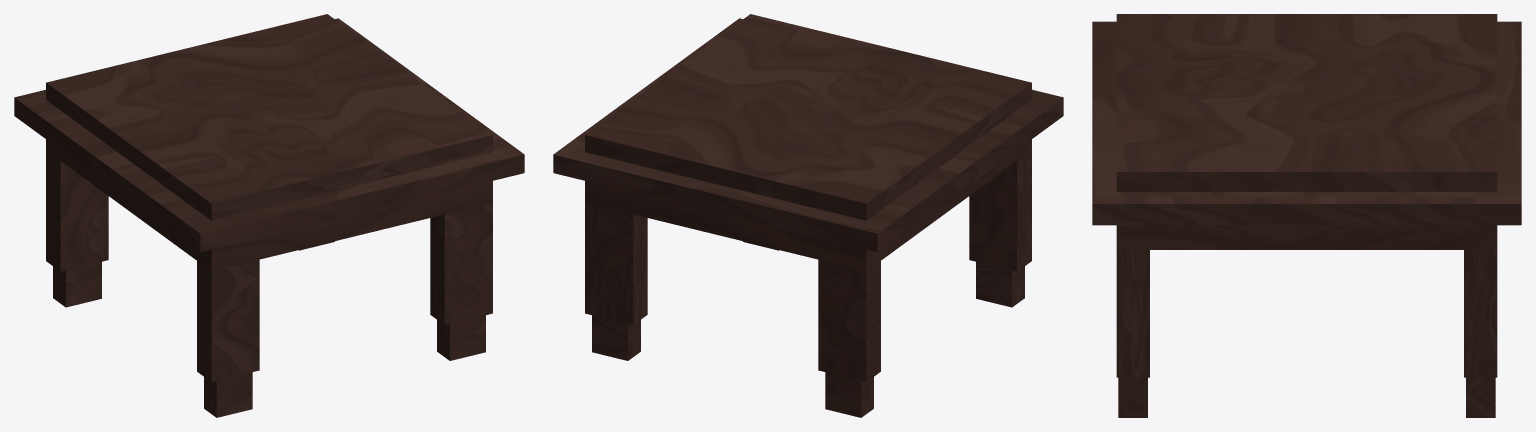
The model's file is pikap masası.fbx.
The picture shows the model from 3 angles, left to right: view 1: azimuth 30°, elevation 25°; view 2: azimuth 150°, elevation 25°; view 3: azimuth 270°, elevation 25°; orthographic projection. The views are drawn at different scales.
Parts seen in each view (by area): view 1: Cube.063; view 2: Cube.063; view 3: Cube.063.
Part boxes in pixels (x1,y1,x2,y2): Cube.063: [14, 14, 524, 417]; Cube.063: [553, 14, 1063, 417]; Cube.063: [1092, 14, 1521, 417].
Size of the model in its own units: 124 by 78.78 by 123.
1 material, 1 textured.
